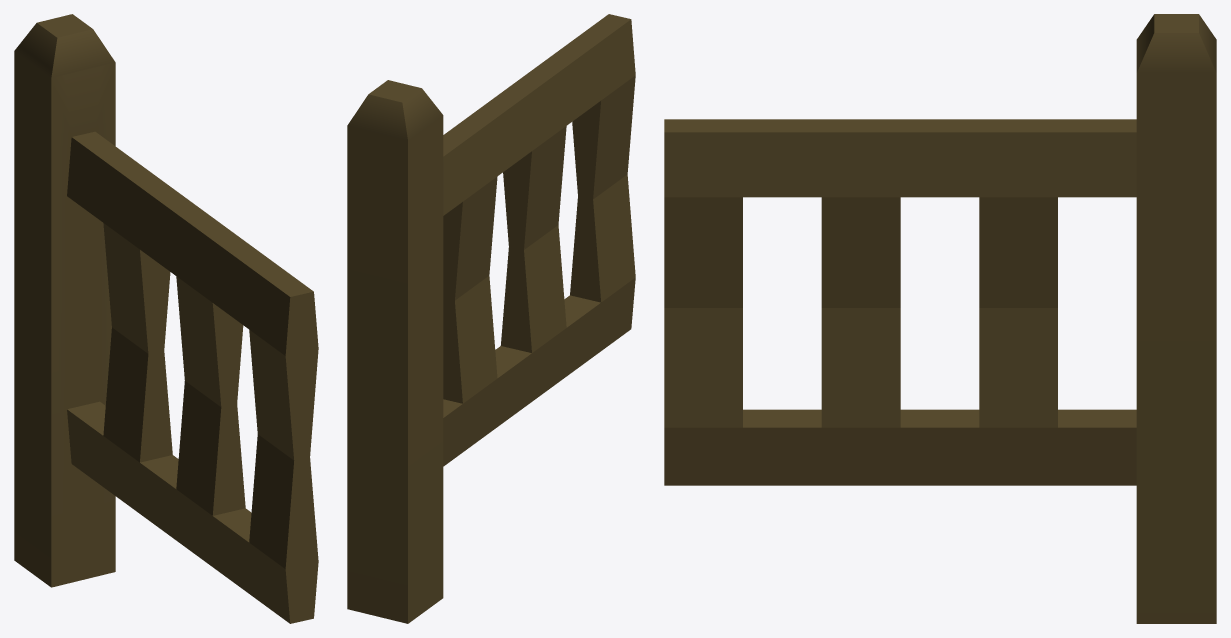
File: WoodenRail.fbx
The picture shows the model from 3 angles, left to right: view 1: azimuth 30°, elevation 25°; view 2: azimuth 150°, elevation 25°; view 3: azimuth 270°, elevation 25°; orthographic projection. The views are drawn at different scales.
Parts seen in each view (by area): view 1: WoodenRail; view 2: WoodenRail; view 3: WoodenRail.
Boxes of the visible parts, x1=… form: WoodenRail: x1=14, y1=14, x2=318, y2=623; WoodenRail: x1=347, y1=14, x2=635, y2=623; WoodenRail: x1=664, y1=14, x2=1216, y2=623.
Size of the model in its own units: 0.5595 by 4.5 by 3.86.
